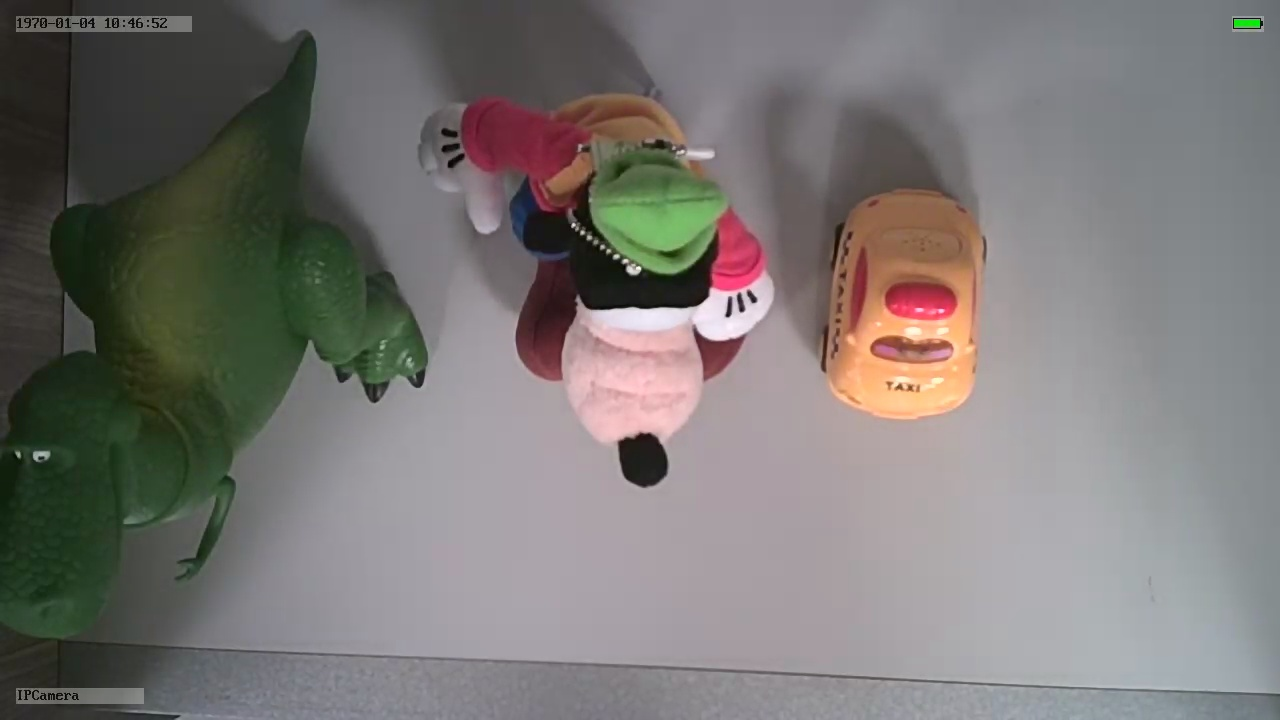car: (815, 180, 991, 424)
goofy: (415, 86, 779, 486)
rex: (1, 133, 430, 639)
